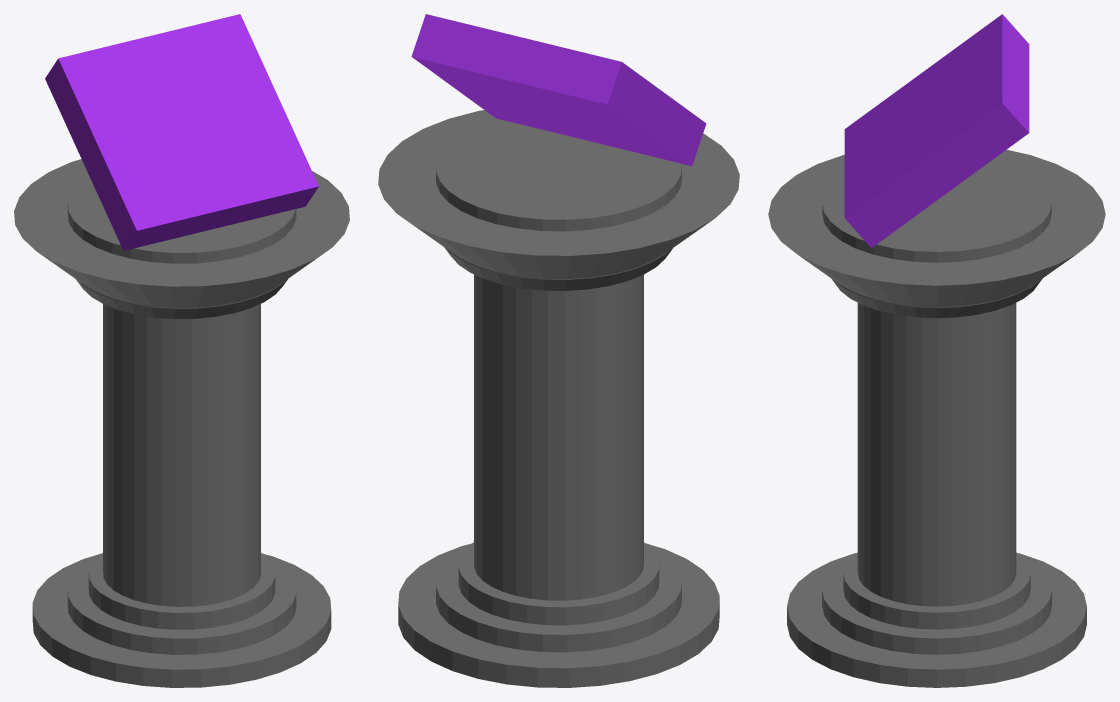
File: Book.gltf
3 views of the same model, side by side, from view 1: azimuth 30°, elevation 25°; view 2: azimuth 150°, elevation 25°; view 3: azimuth 270°, elevation 25° (orthographic). The views are drawn at different scales.
Visible parts, largest first — view 1: Cylinder, Cube; view 2: Cylinder, Cube; view 3: Cylinder, Cube.
Boxes of the visible parts, <box> form: Cylinder: <box>14,159,349,687</box>; Cube: <box>45,14,318,250</box>; Cylinder: <box>378,110,739,687</box>; Cube: <box>411,14,706,165</box>; Cylinder: <box>768,149,1105,687</box>; Cube: <box>844,14,1029,247</box>.
Bounding box in the file's own units: 2.25 × 4.16 × 2.25.
